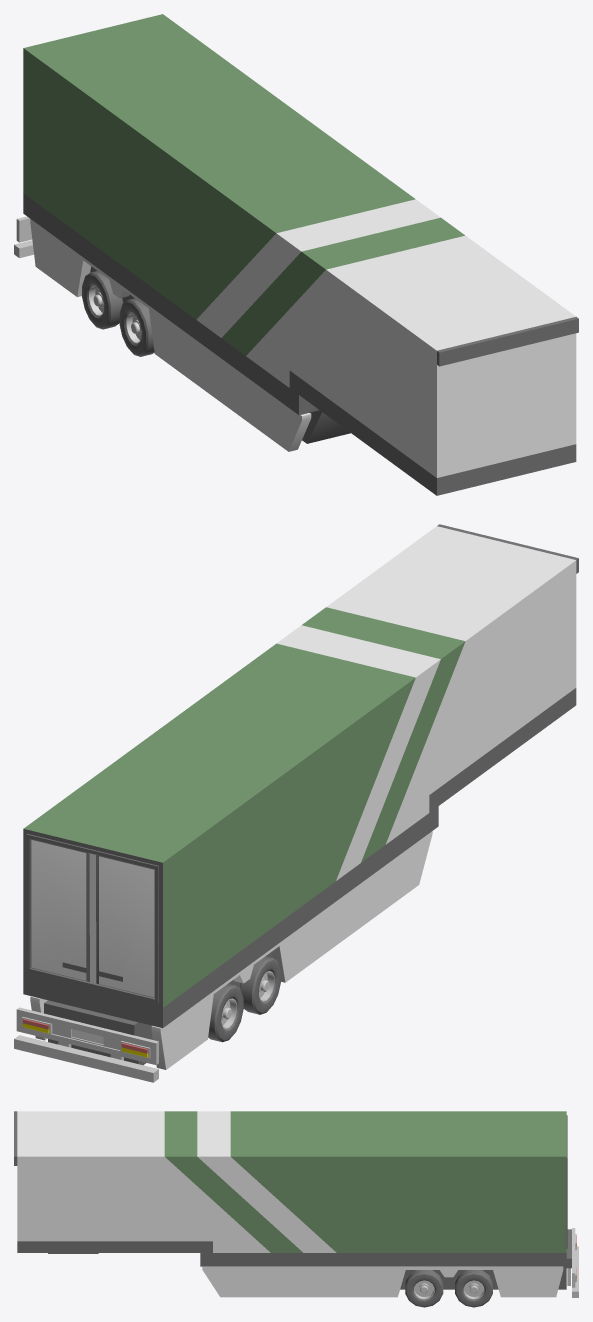
The model's file is trailerGreen.glb.
3 renders of one model, top to bottom at view 1: azimuth 30°, elevation 25°; view 2: azimuth 150°, elevation 25°; view 3: azimuth 270°, elevation 25°, orthographic. The views are drawn at different scales.
Visible parts, largest first — view 1: TrailerBox_4, Trailer1, wheels2_4, wheels1_4; view 2: TrailerBox_4, Trailer1, wheels1_4, wheels2_4; view 3: TrailerBox_4, Trailer1, wheels1_4, wheels2_4.
Part boxes in pixels (x1=…): TrailerBox_4: x1=23, y1=14, x2=578, y2=495; Trailer1: x1=14, y1=216, x2=311, y2=451; wheels2_4: x1=82, y1=271, x2=123, y2=329; wheels1_4: x1=119, y1=298, x2=154, y2=356; TrailerBox_4: x1=23, y1=524, x2=578, y2=1065; Trailer1: x1=14, y1=831, x2=432, y2=1082; wheels1_4: x1=240, y1=956, x2=280, y2=1014; wheels2_4: x1=208, y1=983, x2=243, y2=1042; TrailerBox_4: x1=14, y1=1111, x2=571, y2=1289; Trailer1: x1=202, y1=1228, x2=578, y2=1297; wheels1_4: x1=405, y1=1270, x2=443, y2=1307; wheels2_4: x1=455, y1=1270, x2=492, y2=1307.
Size of the model in its own units: 1.76 by 2.77 by 9.31.
